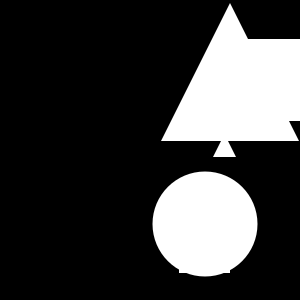circle: (218, 39, 300, 121), (179, 222, 230, 273)
rectangle: (152, 172, 258, 276)
triangle: (161, 3, 299, 141), (213, 134, 236, 157)
